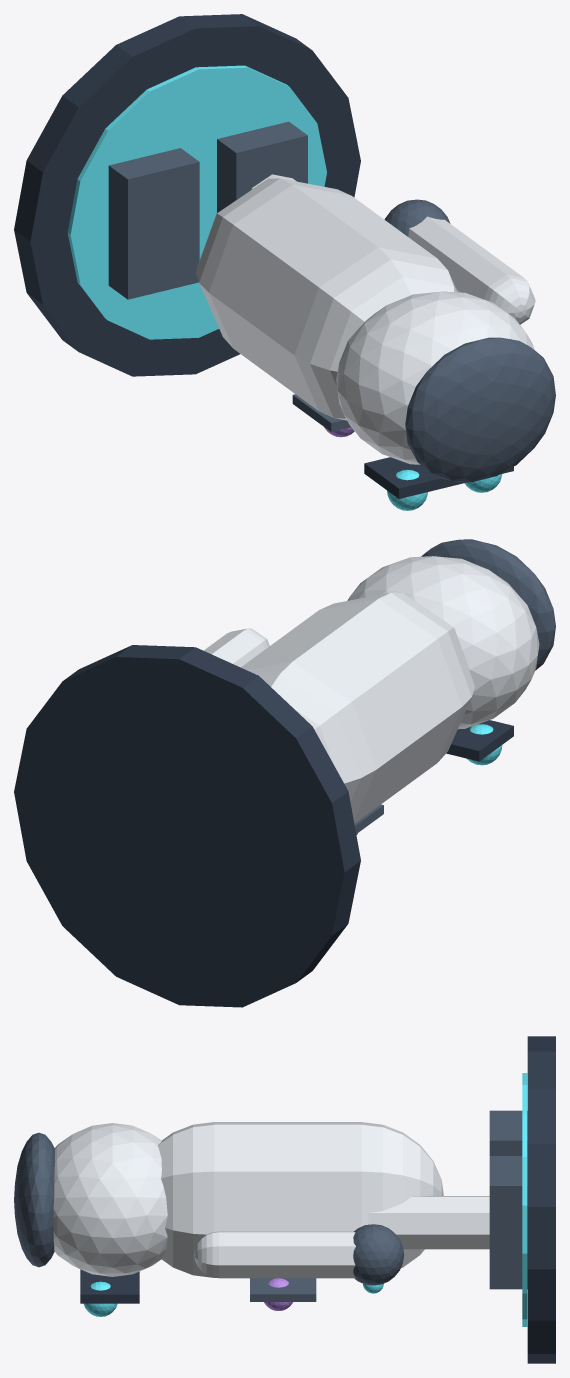
File: cybershield_robot_boy.glb
3 views of the same model, one above another, from view 1: azimuth 30°, elevation 25°; view 2: azimuth 150°, elevation 25°; view 3: azimuth 270°, elevation 25° (orthographic). The views are drawn at different scales.
Visible parts, largest first — view 1: stable_base, torso, base_glow, hair_top, head, left_foot, arm, right_foot, face_panel, hand, chest_panel, eye_left; view 2: stable_base, torso, head, hair_top, face_panel, arm; view 3: torso, head, stable_base, arm, leg, right_foot, hair_top, hand, face_panel, left_foot, base_glow, chest_panel (+1 smaller).
Part boxes in pixels (x1,y1,x2,y2): stable_base: (14,14,360,376); torso: (196,178,457,420); base_glow: (67,65,326,339); hair_top: (405,337,555,481); head: (336,291,534,464); left_foot: (108,148,199,299); arm: (408,216,535,324); right_foot: (217,121,307,212); face_panel: (364,457,513,498); hand: (384,199,450,236); chest_panel: (292,394,351,431); eye_left: (387,469,427,510); stable_base: (14,645,360,1007); torso: (241,592,474,823); head: (347,556,539,729); hair_top: (421,539,555,670); face_panel: (446,720,513,761); arm: (203,628,269,667); torso: (157,1122,443,1277); head: (53,1123,167,1276); stable_base: (527,1036,555,1363); arm: (194,1231,355,1278); leg: (368,1196,489,1249); right_foot: (489,1156,527,1289); hair_top: (14,1132,54,1267); hand: (353,1224,403,1285); face_panel: (80,1269,139,1303); left_foot: (489,1110,527,1155); base_glow: (522,1073,527,1326); chest_panel: (250,1278,316,1301).
Size of the model in its own units: 1.16 by 1.16 by 1.92.
